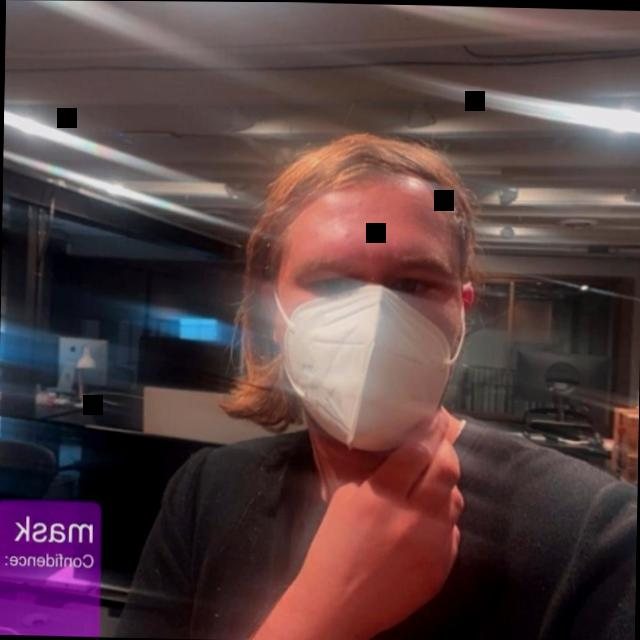Mask: (232, 104, 505, 453)
